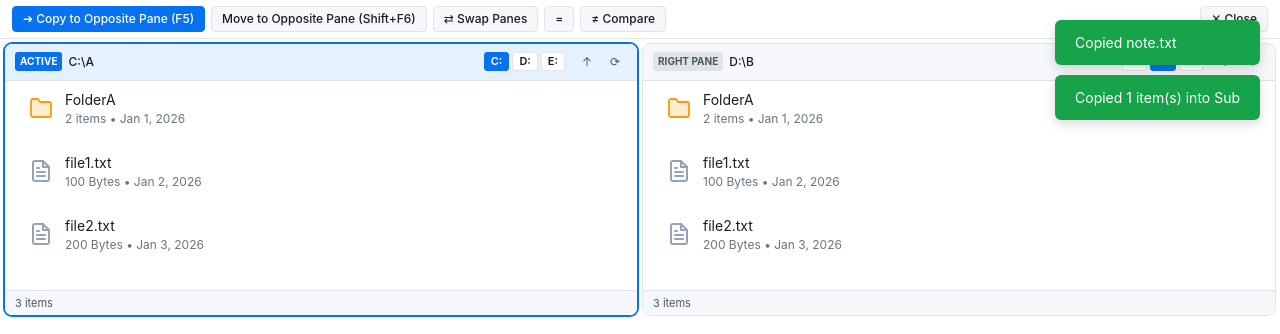
Test case: TP-FE-UI-07 & TP-FE-UI-08: DualPane keyboard isolation, drive switch, drop, and Shift+F6 (BUG-029, BUG-030, BUG-031) › TP-FE-UI-07: isolates keyboard events to active pane and prevents drive click rollback
This screenshot has width=1280, height=334.
expect the text "C:\\A" is shown: met, box [68,53,94,71]
expect the text "D:\\B" is shown: met, box [729,53,754,71]
Note: Activate right pane
Click the element with class "dual-pane-panel" that starts with "Right Pane".
click(959, 180)  # box [642,43,1276,316]
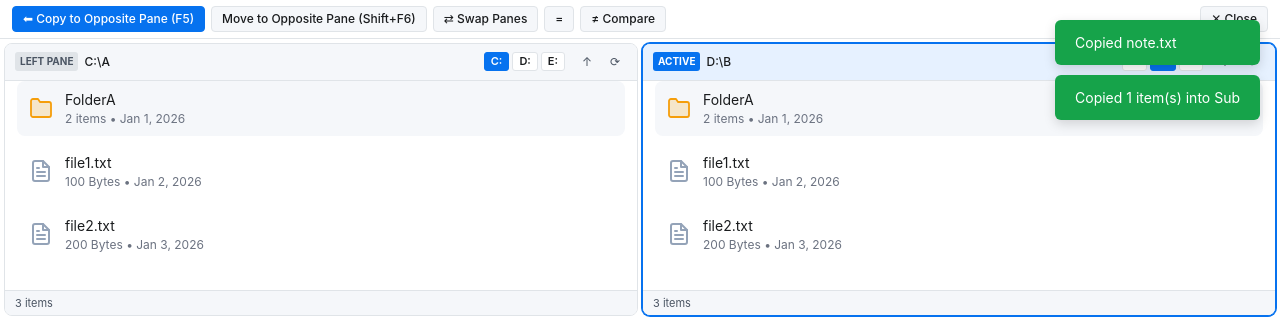
expect the element with class "dual-pane-panel" has class "active": met, box [642,43,1276,316]
Note: Press ArrowDown: only right pane should move focus/selection, left pane stays untouched
Press ArrowDown
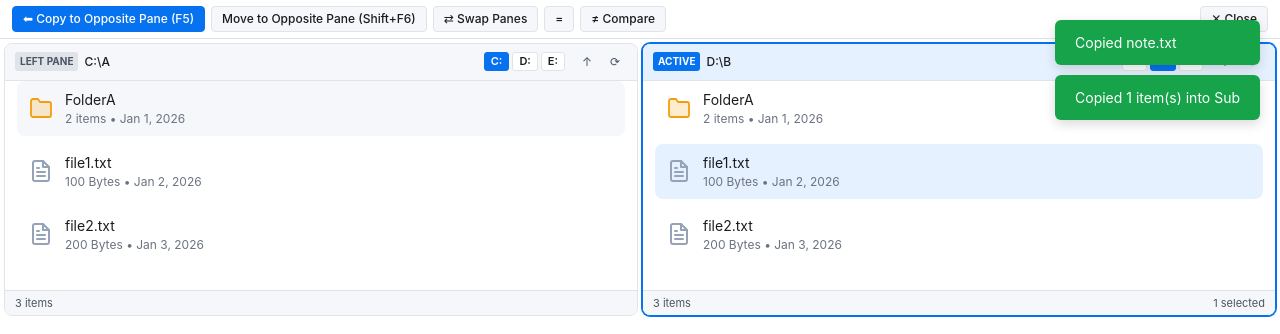
Note: Click drive E: on inactive left pane — must stay on E:\ and NOT roll back to C:\A
Click the button "E:".
click(553, 62)  # box [541,52,565,71]
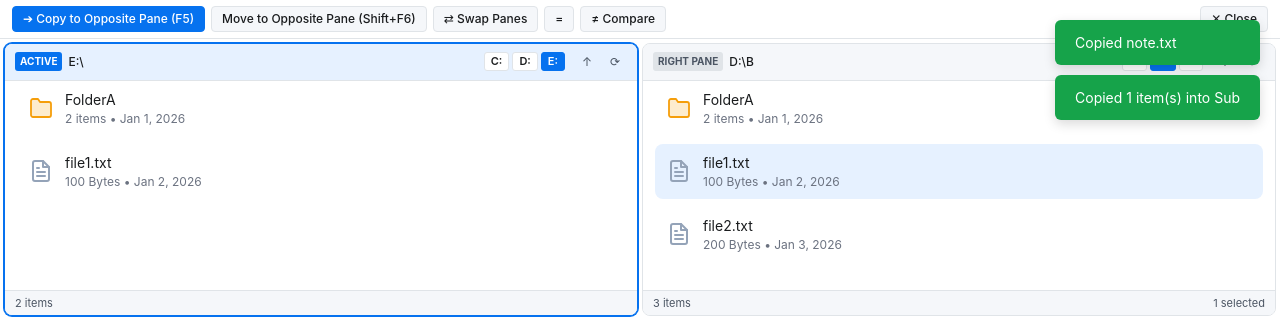
expect the text "E:\\" is shown: met, box [68,53,84,71]
